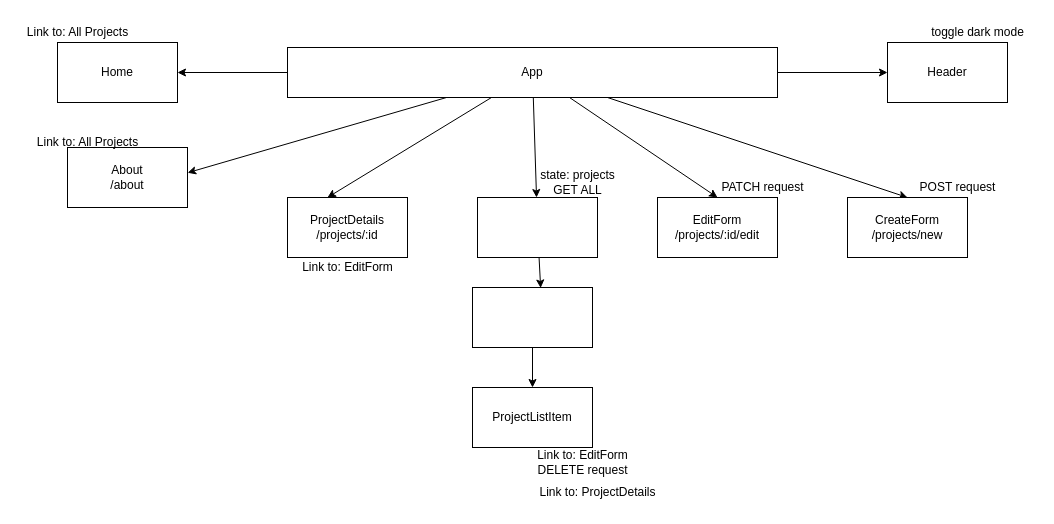
Image size: 1054x524. Some labels were removed from this diagram. Here are the shapes that lost their labels. From the top down, the centre of each, then its label:
At point 537,227: "ProjectsPage /projects".
At point 532,317: "ProjectList".
